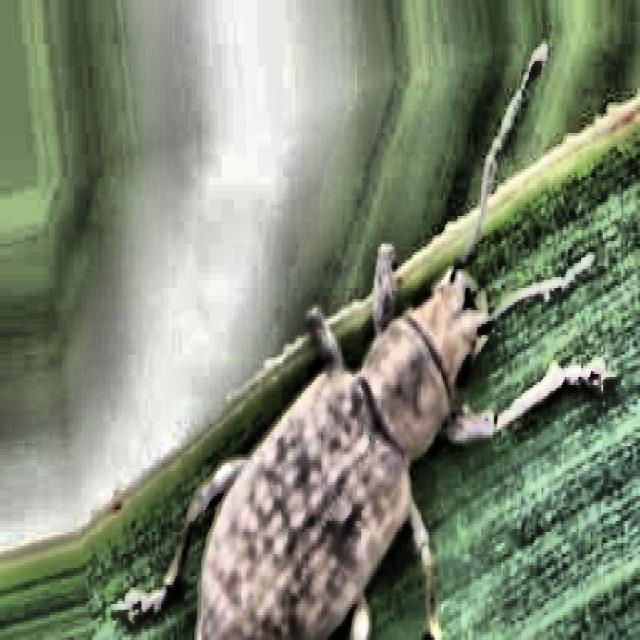Stink bug: (200, 224, 500, 640)
